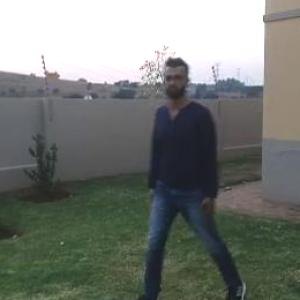follow: (152, 64, 222, 266)
